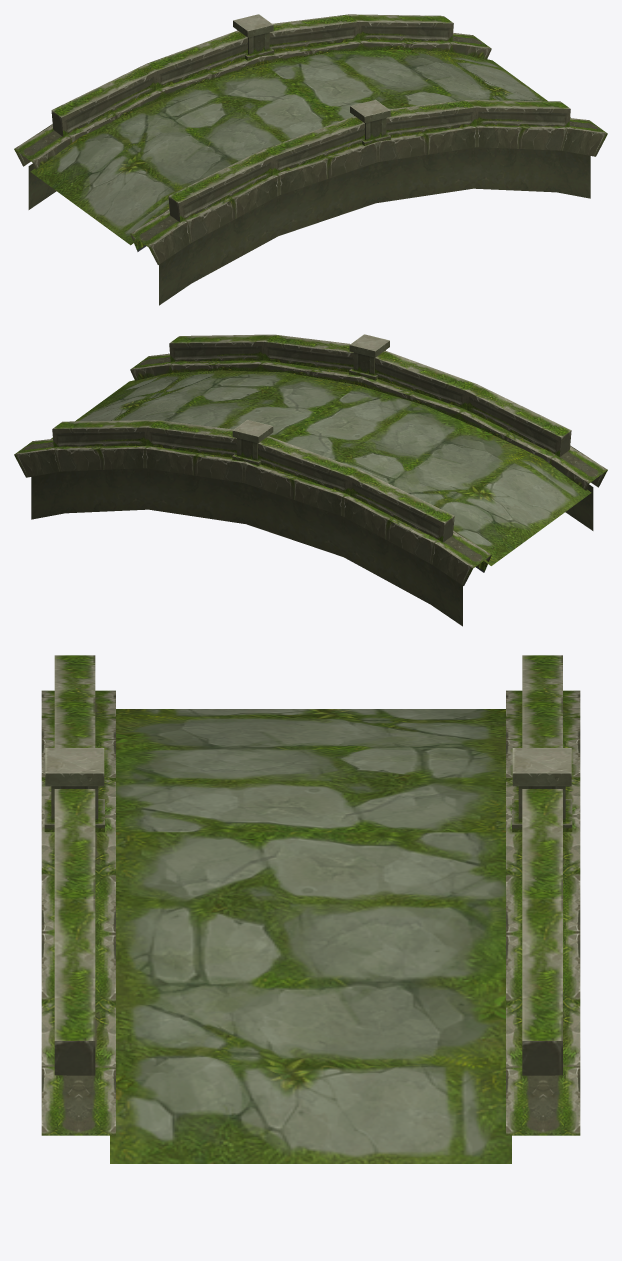
Rendered from qiao01_01.FBX.
3 views of the same model, one above another, from view 1: azimuth 30°, elevation 25°; view 2: azimuth 150°, elevation 25°; view 3: azimuth 270°, elevation 25° (orthographic). The views are drawn at different scales.
Parts seen in each view (by area): view 1: qiao01_01; view 2: qiao01_01; view 3: qiao01_01.
Part boxes in pixels (x1,y1,x2,y2): qiao01_01: (14,14,607,305); qiao01_01: (14,334,607,626); qiao01_01: (41,655,580,1163).
Bounding box in the file's own units: 1270 × 368 × 641.
